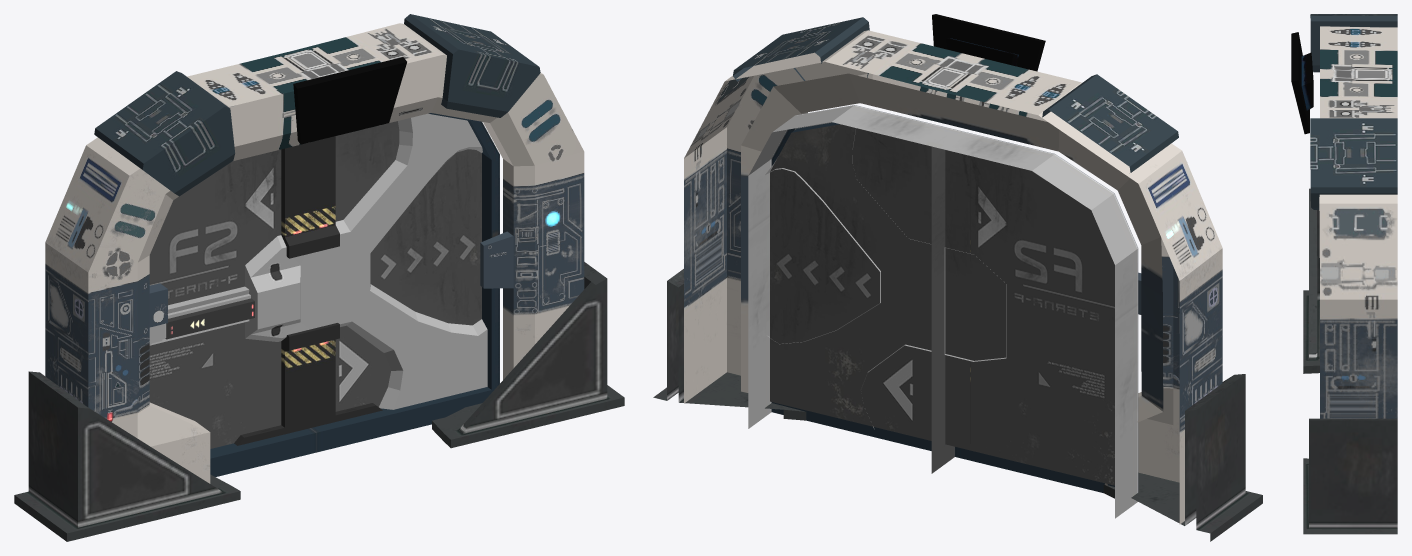
3 views of the same model, side by side, from view 1: azimuth 30°, elevation 25°; view 2: azimuth 150°, elevation 25°; view 3: azimuth 270°, elevation 25° (orthographic). The views are drawn at different scales.
Visible parts, largest first — view 1: Object008_pillar_0, Object008_DOOR_0, Object008_LOCK1_0, Object008_Bottom_0, Object008_lock02_0, Object008_emissive_0; view 2: Object008_DOOR_0, Object008_pillar_0, Object008_Bottom_0, Object008_LOCK1_0, Object008_emissive_0; view 3: Object008_pillar_0, Object008_Bottom_0, Object008_LOCK1_0, Object008_emissive_0.
Part boxes in pixels (x1,y1,x2,y2): Object008_pillar_0: (45,23,584,483); Object008_DOOR_0: (149,113,499,476); Object008_LOCK1_0: (94,14,540,409); Object008_Bottom_0: (14,262,624,541); Object008_lock02_0: (234,136,382,445); Object008_emissive_0: (293,57,406,144); Object008_DOOR_0: (748,105,1138,518); Object008_pillar_0: (684,30,1222,524); Object008_Bottom_0: (653,269,1262,541); Object008_LOCK1_0: (733,17,1178,429); Object008_emissive_0: (932,14,1045,71); Object008_pillar_0: (1319,26,1397,418); Object008_Bottom_0: (1303,188,1397,534); Object008_LOCK1_0: (1310,14,1397,209); Object008_emissive_0: (1291,32,1313,134).
Size of the model in its own units: 221 by 154 by 40.63.
Materials: 6 (6 with a texture image).
